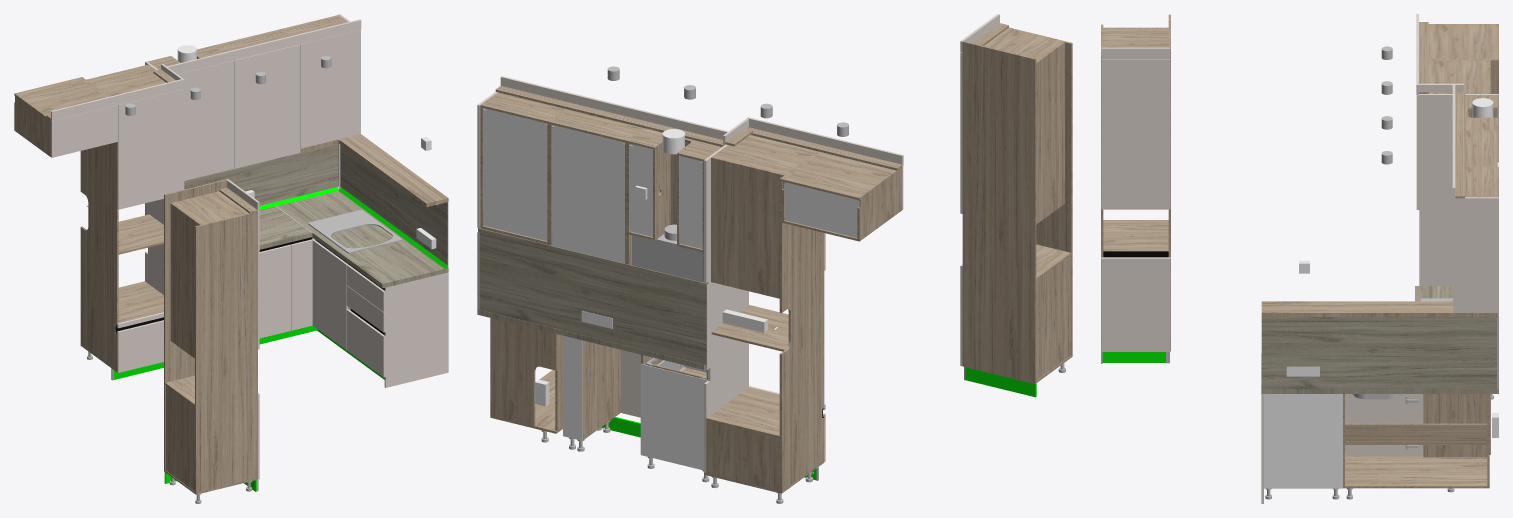
3 renders of one model, left to right at view 1: azimuth 30°, elevation 25°; view 2: azimuth 150°, elevation 25°; view 3: azimuth 270°, elevation 25°, orthographic. The views are drawn at different scales.
Parts seen in each view (by area): view 1: node_0131, node_0071, node_0093, node_0076, node_0038, node_0116, node_0021, node_0094, node_0019, node_0018, node_0128, node_0118 (+26 smaller); view 2: node_0130, node_0018, node_0071, node_0088, node_0068, node_0110, node_0056, node_0028, node_0070, node_0128, node_0069, node_0129 (+27 smaller); view 3: node_0019, node_0136, node_0037, node_0070, node_0137, node_0117, node_0026, node_0029, node_0022, node_0112, node_0030, node_0083 (+19 smaller).
Boxes of the visible parts, bbox=[...] form: node_0131: bbox=[195, 212, 257, 492]; node_0071: bbox=[80, 77, 118, 369]; node_0093: bbox=[234, 44, 300, 168]; node_0076: bbox=[117, 89, 184, 209]; node_0038: bbox=[384, 272, 448, 387]; node_0116: bbox=[300, 30, 358, 148]; node_0021: bbox=[277, 191, 448, 288]; node_0094: bbox=[178, 60, 233, 180]; node_0019: bbox=[340, 145, 448, 267]; node_0018: bbox=[145, 144, 338, 214]; node_0128: bbox=[170, 202, 201, 358]; node_0118: bbox=[259, 244, 291, 338]; node_0130: bbox=[962, 41, 1036, 383]; node_0018: bbox=[478, 228, 706, 365]; node_0071: bbox=[779, 151, 824, 491]; node_0088: bbox=[552, 125, 624, 263]; node_0068: bbox=[711, 156, 784, 298]; node_0110: bbox=[483, 108, 547, 240]; node_0056: bbox=[640, 364, 707, 470]; node_0028: bbox=[490, 318, 557, 425]; node_0070: bbox=[704, 144, 748, 472]; node_0128: bbox=[1036, 42, 1064, 224]; node_0069: bbox=[706, 420, 779, 490]; node_0129: bbox=[1036, 255, 1070, 380]; node_0019: bbox=[1261, 317, 1496, 389]; node_0136: bbox=[1101, 59, 1170, 209]; node_0037: bbox=[1264, 394, 1342, 488]; node_0070: bbox=[1419, 94, 1498, 285]; node_0137: bbox=[1101, 257, 1170, 351]; node_0117: bbox=[1453, 197, 1498, 312]; node_0026: bbox=[1343, 456, 1489, 488]; node_0029: bbox=[1345, 423, 1487, 444]; node_0022: bbox=[1423, 394, 1487, 457]; node_0112: bbox=[1261, 300, 1497, 314]; node_0030: bbox=[1345, 394, 1411, 456]; node_0083: bbox=[1428, 25, 1498, 58].
Bounding box in the file's own units: 2.95 × 2.5 × 2.85.
20 materials, 5 textured.
